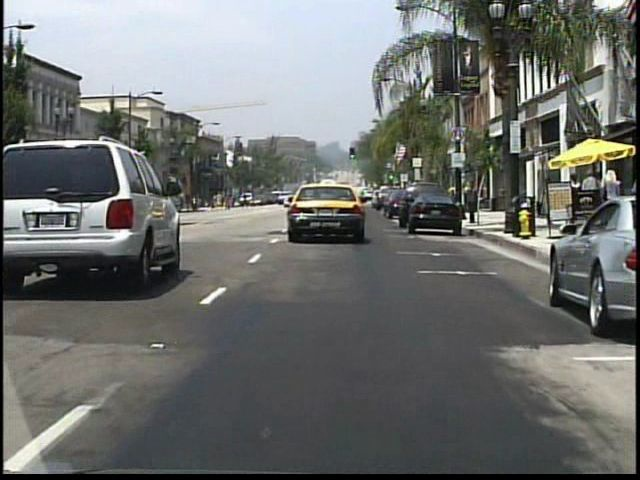person: (578, 168, 604, 227), (601, 168, 624, 226), (563, 171, 582, 227), (241, 193, 249, 209)
